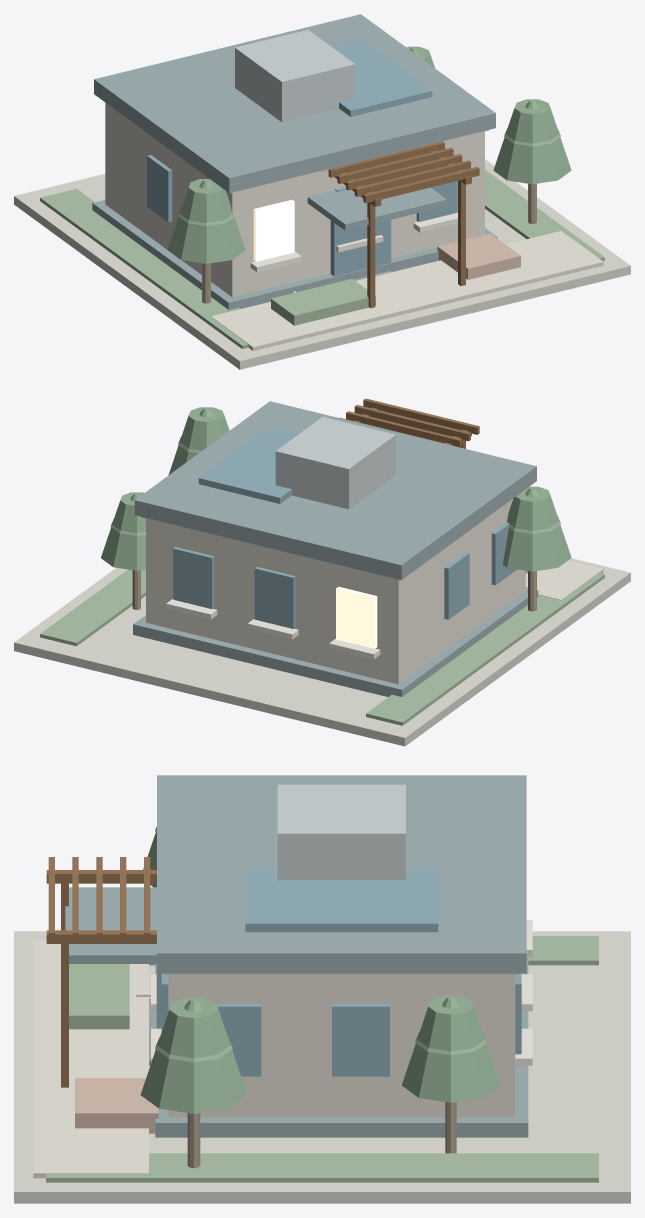
Rendered from remaster_house_4.glb.
The picture shows the model from 3 angles, top to bottom: view 1: azimuth 30°, elevation 25°; view 2: azimuth 150°, elevation 25°; view 3: azimuth 270°, elevation 25°; orthographic projection. The views are drawn at different scales.
Visible parts, largest first — view 1: remaster_house_4 roof, remaster_house_4 cream, remaster_house_4 stone, remaster_house_4 green, remaster_house_4 leaf, remaster_house_4 glass, remaster_house_4 metal, remaster_house_4 brick, remaster_house_4 warm, remaster_house_4 white, Pergola slat, Pergola slat.002 (+6 smaller); view 2: remaster_house_4 roof, remaster_house_4 cream, remaster_house_4 stone, remaster_house_4 glass, remaster_house_4 green, remaster_house_4 leaf, remaster_house_4 metal, remaster_house_4 warm, remaster_house_4 white, Pergola slat.002, Pergola slat, Pergola slat.001 (+1 smaller); view 3: remaster_house_4 roof, remaster_house_4 stone, remaster_house_4 cream, remaster_house_4 green, remaster_house_4 glass, remaster_house_4 leaf, remaster_house_4 metal, remaster_house_4 brick, remaster_house_4 white, remaster_house_4 bark, Pergola runner.001, Pergola runner (+6 smaller).
Part boxes in pixels (<box>): remaster_house_4 roof: <box>92,14,497,309</box>; remaster_house_4 cream: <box>105,103,603,350</box>; remaster_house_4 stone: <box>14,129,630,369</box>; remaster_house_4 green: <box>40,170,604,348</box>; remaster_house_4 leaf: <box>167,46,571,263</box>; remaster_house_4 glass: <box>147,39,457,276</box>; remaster_house_4 metal: <box>235,30,355,122</box>; remaster_house_4 brick: <box>437,233,520,279</box>; remaster_house_4 warm: <box>253,199,294,261</box>; remaster_house_4 white: <box>250,212,457,292</box>; Pergola slat: <box>363,167,479,203</box>; Pergola slat.002: <box>346,154,462,190</box>; remaster_house_4 roof: <box>133,401,538,696</box>; remaster_house_4 cream: <box>146,499,603,684</box>; remaster_house_4 stone: <box>14,516,630,746</box>; remaster_house_4 glass: <box>173,426,516,628</box>; remaster_house_4 green: <box>40,569,604,725</box>; remaster_house_4 leaf: <box>101,407,571,571</box>; remaster_house_4 metal: <box>275,417,395,509</box>; remaster_house_4 warm: <box>336,586,377,648</box>; remaster_house_4 white: <box>166,599,380,659</box>; Pergola slat.002: <box>346,411,462,447</box>; Pergola slat: <box>363,398,479,434</box>; Pergola slat.001: <box>354,405,470,441</box>; remaster_house_4 roof: <box>65,775,528,1137</box>; remaster_house_4 stone: <box>14,931,630,1203</box>; remaster_house_4 cream: <box>33,939,515,1178</box>; remaster_house_4 green: <box>46,936,598,1182</box>; remaster_house_4 glass: <box>156,869,521,1076</box>; remaster_house_4 leaf: <box>140,827,500,1113</box>; remaster_house_4 metal: <box>277,784,405,880</box>; remaster_house_4 brick: <box>75,1078,158,1133</box>; remaster_house_4 white: <box>136,920,532,1065</box>; remaster_house_4 bark: <box>187,1102,456,1168</box>; Pergola runner.001: <box>46,930,156,943</box>; Pergola runner: <box>46,870,156,883</box>.
Size of the model in its own units: 9.64 by 4.3 by 9.6.
